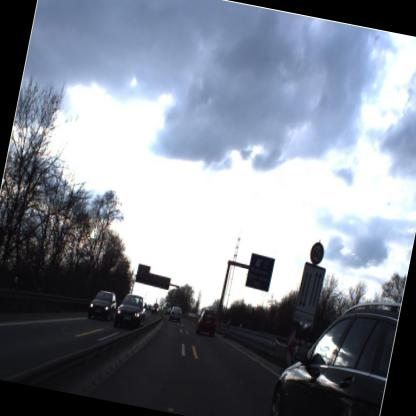prohibitory: (304, 237, 327, 268)
